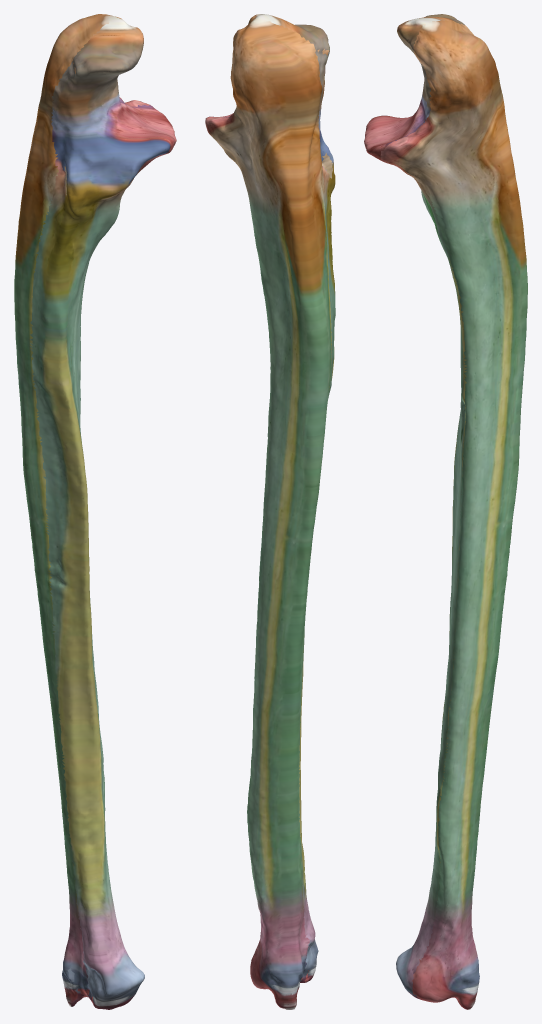
The model's file is kosc-lokciowa.glb.
3 renders of one model, left to right at view 1: azimuth 90°, elevation 25°; view 2: azimuth 210°, elevation 25°; view 3: azimuth 270°, elevation 25°, orthographic.
Bounding box in the file's own units: 0.025 × 0.2393 × 0.0359.
Materials: 2 (1 with a texture image).
